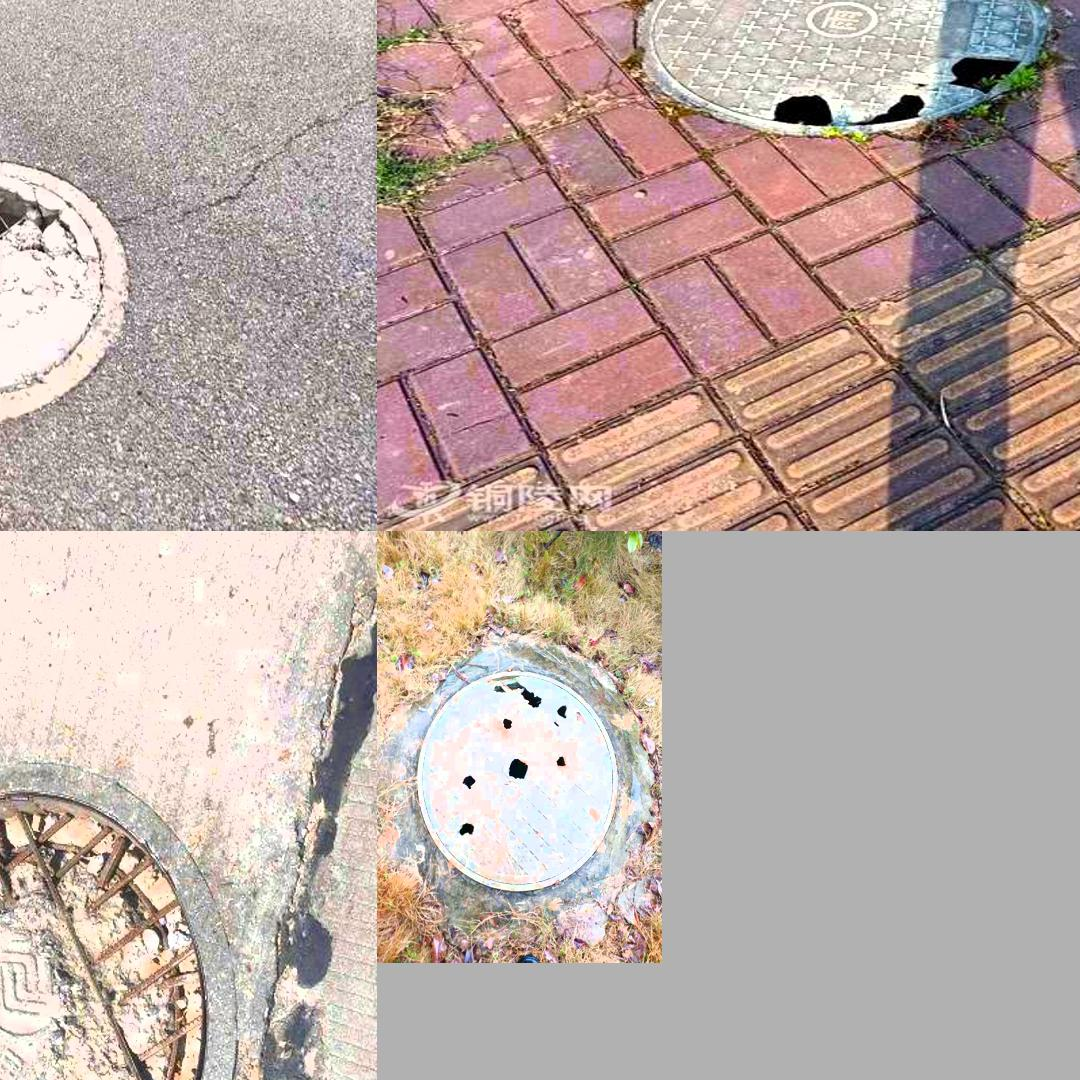broke: (0, 768, 259, 1080), (615, 0, 1078, 147), (417, 670, 617, 891), (0, 154, 133, 434)
